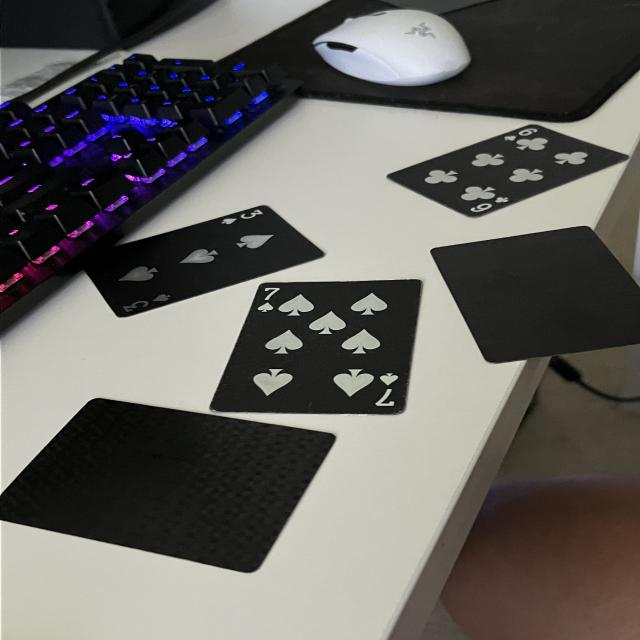3S: (212, 204, 268, 228), (111, 293, 174, 314)
6C: (467, 193, 516, 218), (498, 122, 541, 142)
7S: (373, 372, 401, 409), (253, 285, 278, 324)
BACK: (0, 394, 345, 579), (428, 223, 640, 368)
